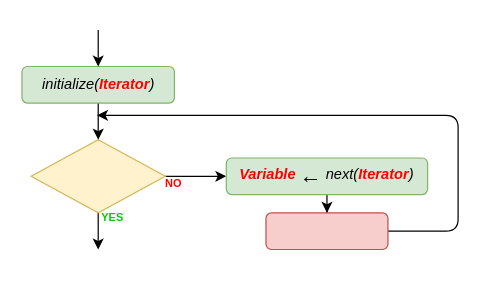
This 489x281 diagram has some shape labels left out. Here are the shapes that lost their labels. From the top down, the centre of each, then its label:
At point (97, 175): "end?( Iterator )".
At point (326, 230): "Statement".
